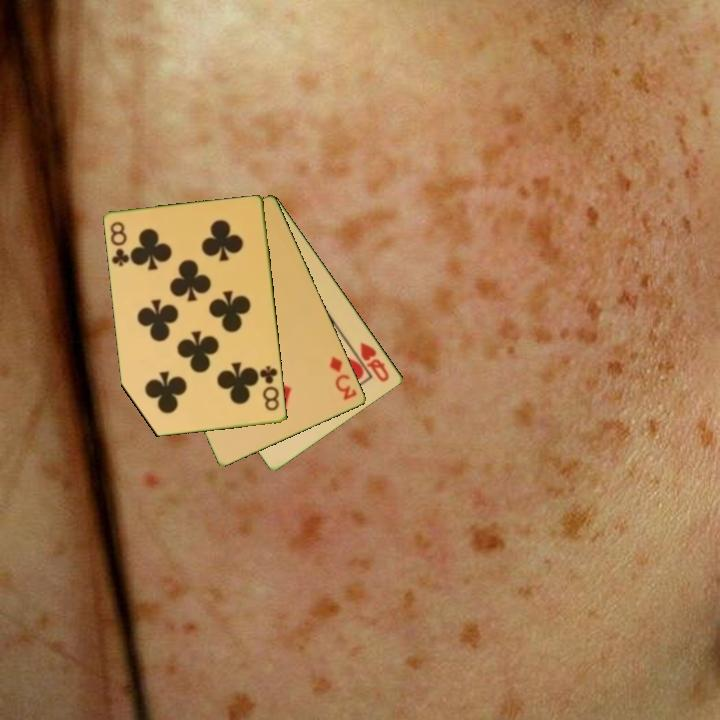3d: (326, 353, 360, 403)
8c: (256, 362, 282, 414), (107, 218, 132, 270)
Qh: (357, 339, 393, 385)
